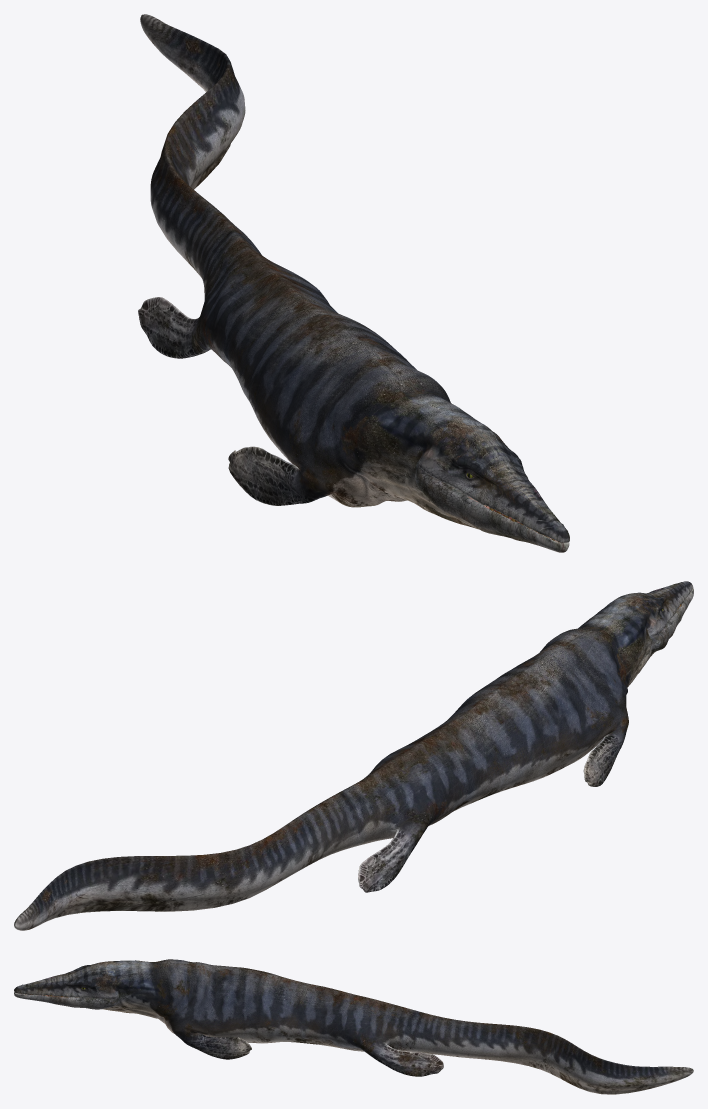
File: tylosaurus.glb
3 views of the same model, one above another, from view 1: azimuth 30°, elevation 25°; view 2: azimuth 150°, elevation 25°; view 3: azimuth 270°, elevation 25° (orthographic). The views are drawn at different scales.
Visible parts, largest first — view 1: base_body_0, base_head_0; view 2: base_body_0, base_head_0; view 3: base_body_0, base_head_0.
Boxes of the visible parts, box(x1,y1,x2,y2) form: base_body_0: box(138, 14, 450, 507); base_head_0: box(228, 392, 569, 552); base_body_0: box(14, 626, 628, 930); base_head_0: box(578, 581, 693, 786); base_body_0: box(154, 959, 693, 1094); base_head_0: box(14, 960, 251, 1059).
Size of the model in its own units: 4.02 by 1.7 by 12.54.
Materials: 4 (4 with a texture image).
